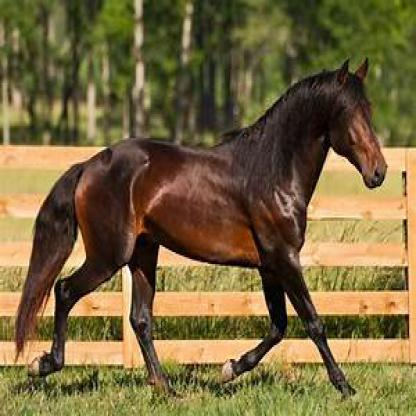horse: (15, 57, 388, 394)
